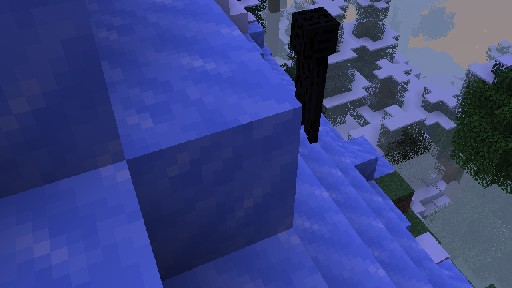enderman: (289, 5, 339, 185)
